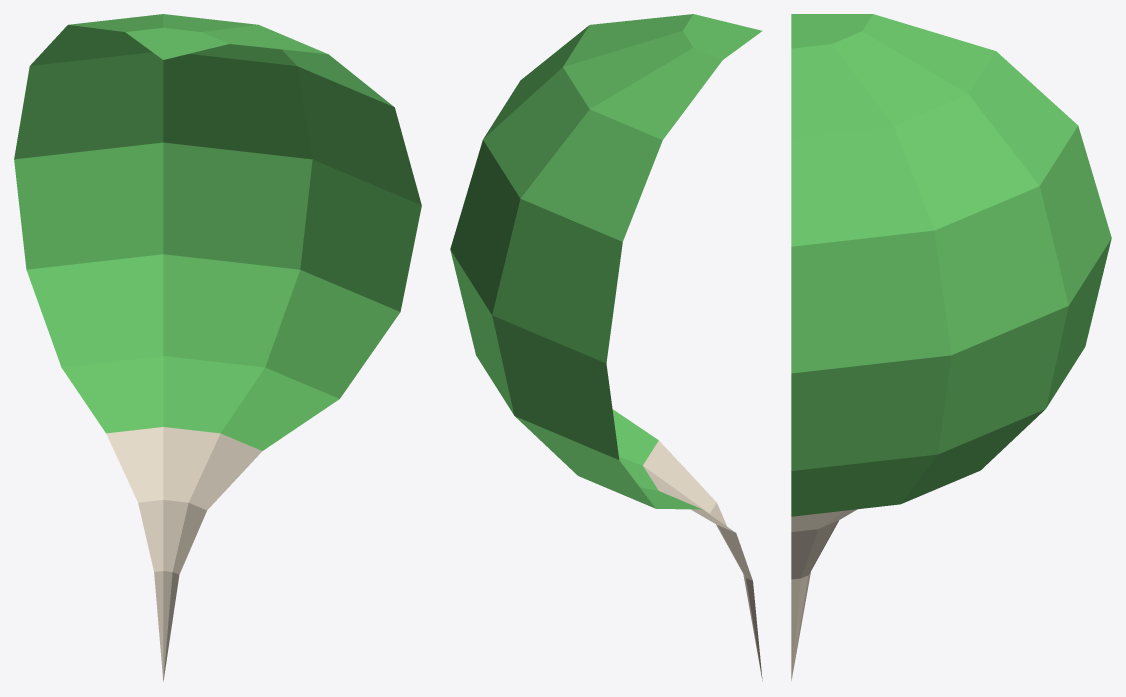
The model's file is Escarpment_Terrain_Corner_Outer_1x1_Top.glb.
The picture shows the model from 3 angles, left to right: view 1: azimuth 30°, elevation 25°; view 2: azimuth 150°, elevation 25°; view 3: azimuth 270°, elevation 25°; orthographic projection. The views are drawn at different scales.
Visible parts, largest first — view 1: Escarpment_Terrain_Corner_Outer_1x1_Top; view 2: Escarpment_Terrain_Corner_Outer_1x1_Top; view 3: Escarpment_Terrain_Corner_Outer_1x1_Top.
Part boxes in pixels (box(x1,y1,x2,y2)): Escarpment_Terrain_Corner_Outer_1x1_Top: box(14, 14, 421, 681); Escarpment_Terrain_Corner_Outer_1x1_Top: box(450, 14, 762, 681); Escarpment_Terrain_Corner_Outer_1x1_Top: box(791, 14, 1111, 680).
Size of the model in its own units: 0.2072 by 0.477 by 0.2072.
